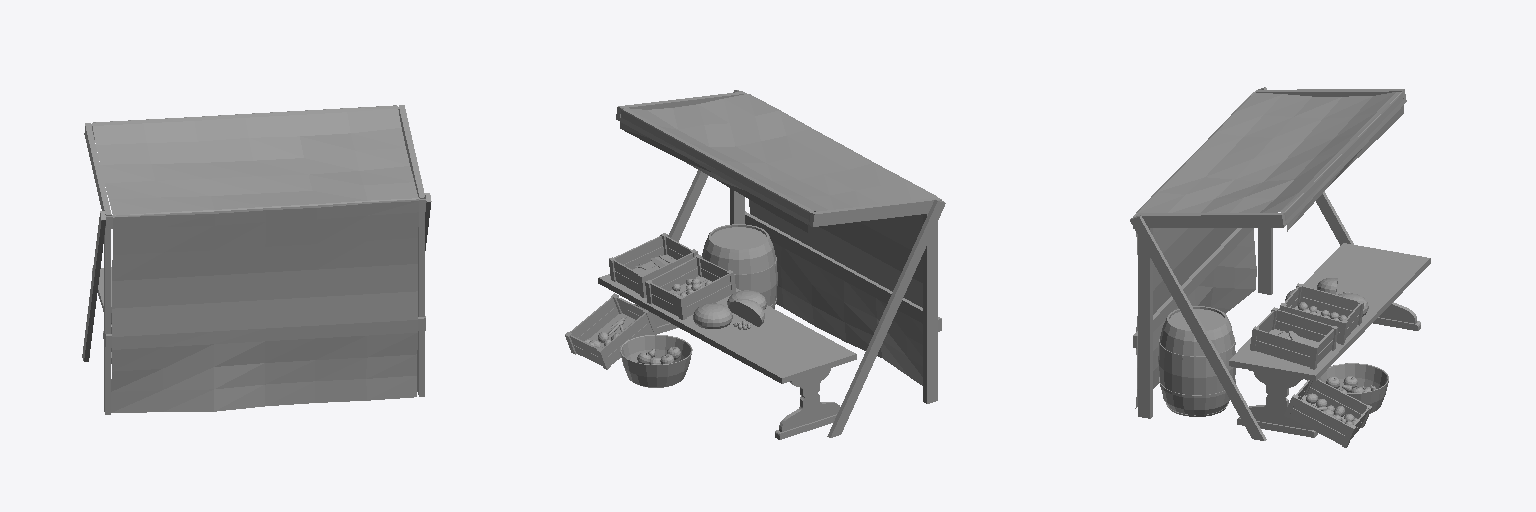
The model's file is food_stall.obj.
3 views of the same model, side by side, from view 1: azimuth 30°, elevation 25°; view 2: azimuth 150°, elevation 25°; view 3: azimuth 270°, elevation 25° (orthographic).
Visible parts, largest first — view 1: Plane.002_Plane.001, stand_Cube.013; view 2: Plane.002_Plane.001, stand_Cube.013, table_Cube.014, barrel_Circle.003, box.002_Cube.004, box.001_Cube.002, basket.001_Circle.001, box_Cube.003, bread_full_Sphere.001, bread_half_Sphere.006; view 3: Plane.002_Plane.001, stand_Cube.013, table_Cube.014, barrel_Circle.003, box_Cube.003, box.002_Cube.004, box.001_Cube.002, basket.001_Circle.001.
Part boxes in pixels (left/top/right/bottom): Plane.002_Plane.001: left=92, top=105, right=418, bottom=412; stand_Cube.013: left=82, top=105, right=431, bottom=414; Plane.002_Plane.001: left=620, top=94, right=936, bottom=385; stand_Cube.013: left=616, top=90, right=945, bottom=437; table_Cube.014: left=598, top=274, right=856, bottom=439; barrel_Circle.003: left=702, top=224, right=777, bottom=308; box.002_Cube.004: left=565, top=293, right=656, bottom=369; box.001_Cube.002: left=645, top=254, right=735, bottom=319; basket.001_Circle.001: left=620, top=335, right=692, bottom=387; box_Cube.003: left=609, top=233, right=697, bottom=297; bread_full_Sphere.001: left=693, top=303, right=732, bottom=328; bread_half_Sphere.006: left=729, top=299, right=764, bottom=326; Plane.002_Plane.001: left=1135, top=92, right=1403, bottom=408; stand_Cube.013: left=1130, top=87, right=1406, bottom=440; table_Cube.014: left=1229, top=243, right=1430, bottom=437; barrel_Circle.003: left=1158, top=306, right=1235, bottom=416; box_Cube.003: left=1250, top=307, right=1338, bottom=369; box.002_Cube.004: left=1284, top=379, right=1371, bottom=447; box.001_Cube.002: left=1279, top=283, right=1363, bottom=344; basket.001_Circle.001: left=1319, top=363, right=1388, bottom=413.
Bounding box in the file's own units: 4.26 × 2.78 × 3.34.